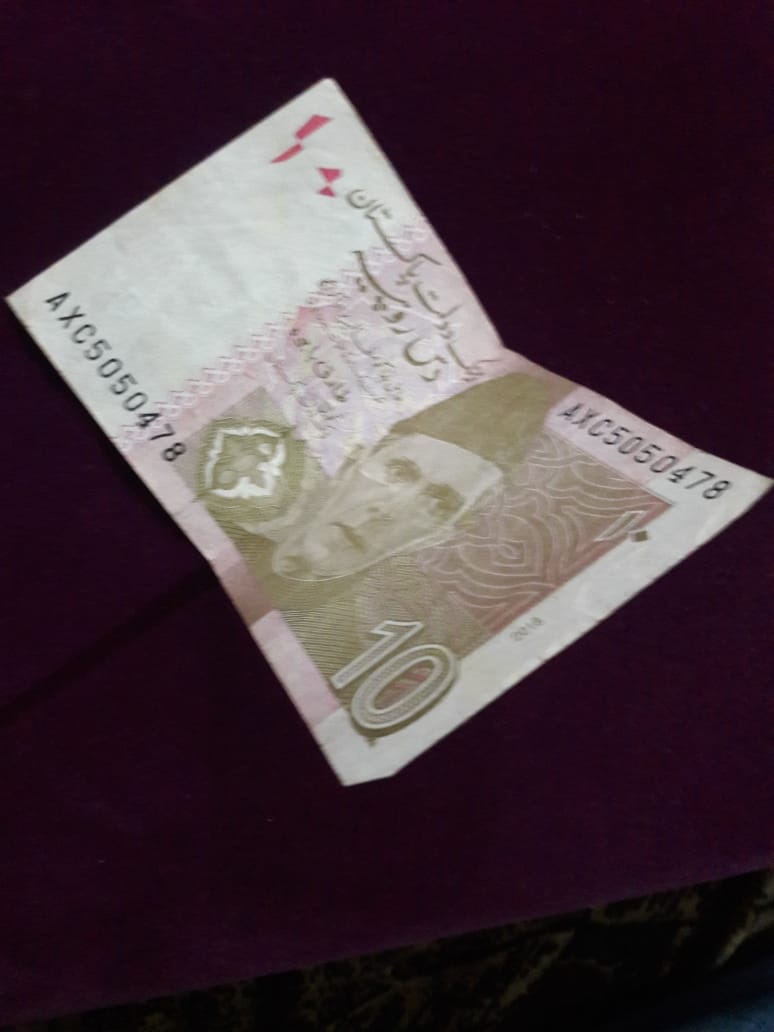10 rupee: (3, 66, 771, 788)
